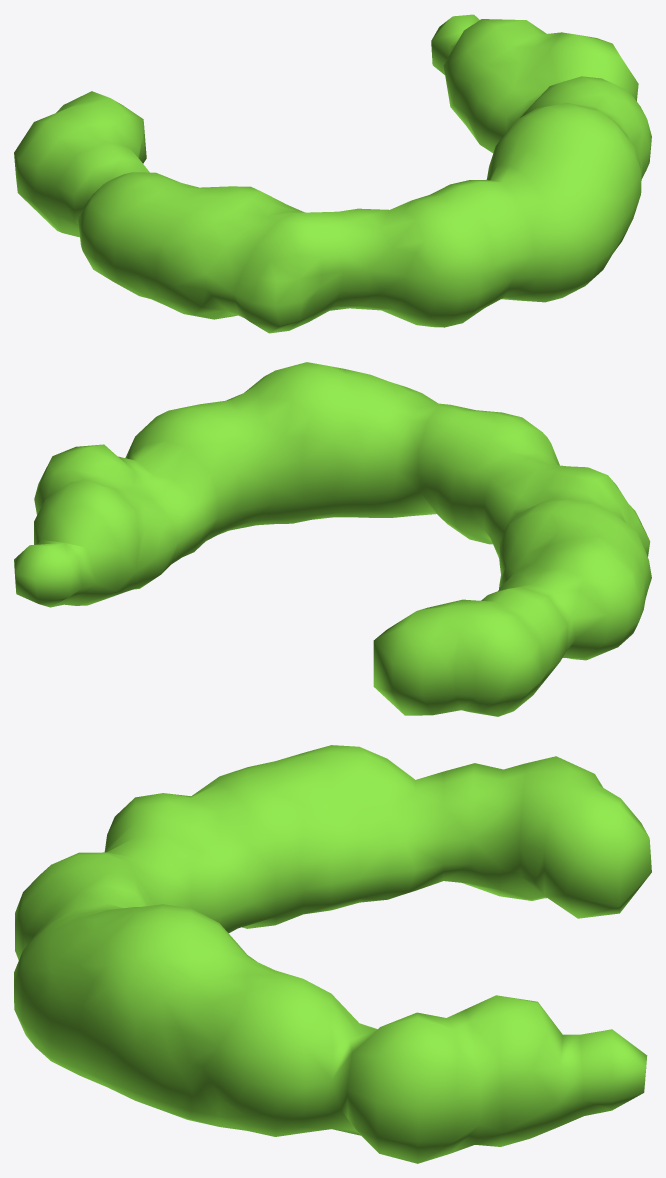
Rendered from p_trashbot_trashball_wavetorus02_pose2.fbx.
The picture shows the model from 3 angles, top to bottom: view 1: azimuth 30°, elevation 25°; view 2: azimuth 150°, elevation 25°; view 3: azimuth 270°, elevation 25°; orthographic projection. The views are drawn at different scales.
Visible parts, largest first — view 1: Wave_pose2; view 2: Wave_pose2; view 3: Wave_pose2.
Boxes of the visible parts, x1=… form: Wave_pose2: x1=14, y1=14, x2=651, y2=333; Wave_pose2: x1=14, y1=362, x2=651, y2=716; Wave_pose2: x1=14, y1=745, x2=651, y2=1163.
Size of the model in its own units: 11.29 by 2.92 by 9.1.
